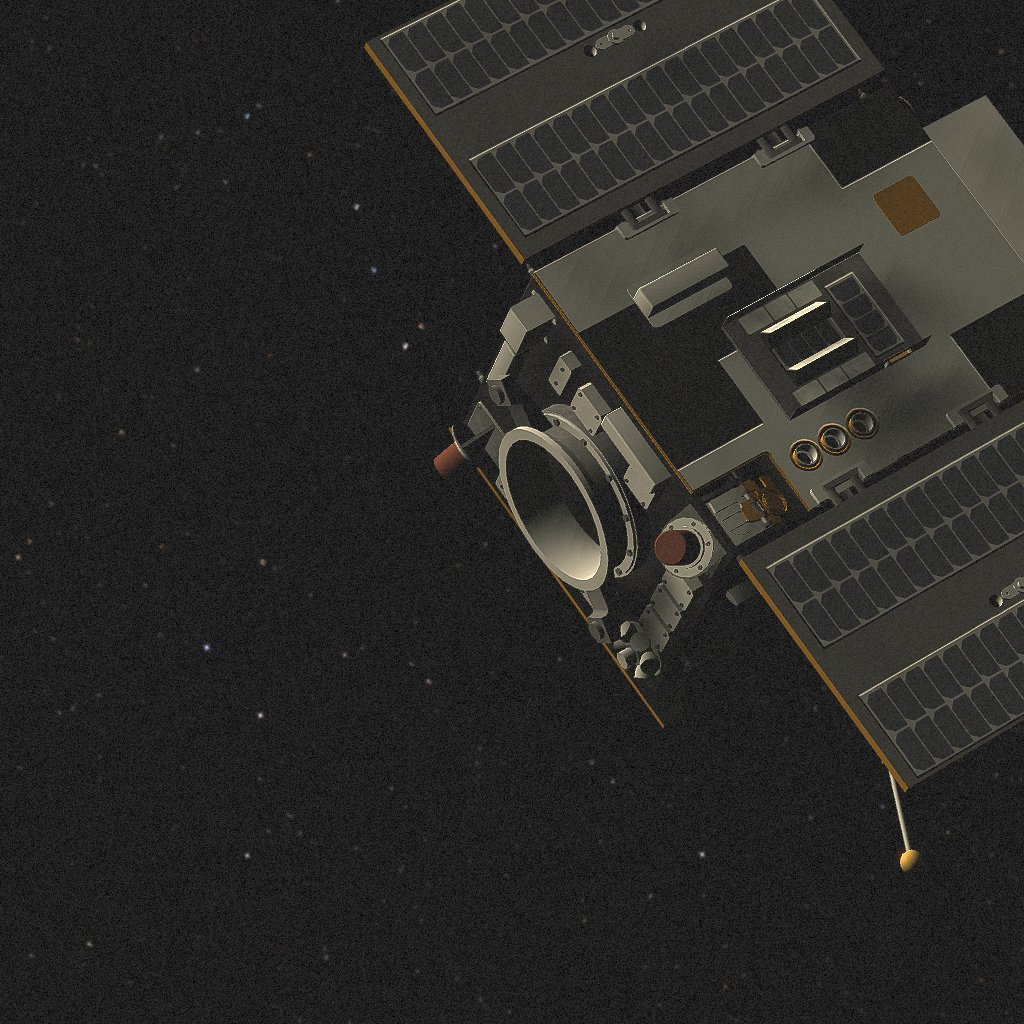proba_2: (364, 0, 1024, 874)
